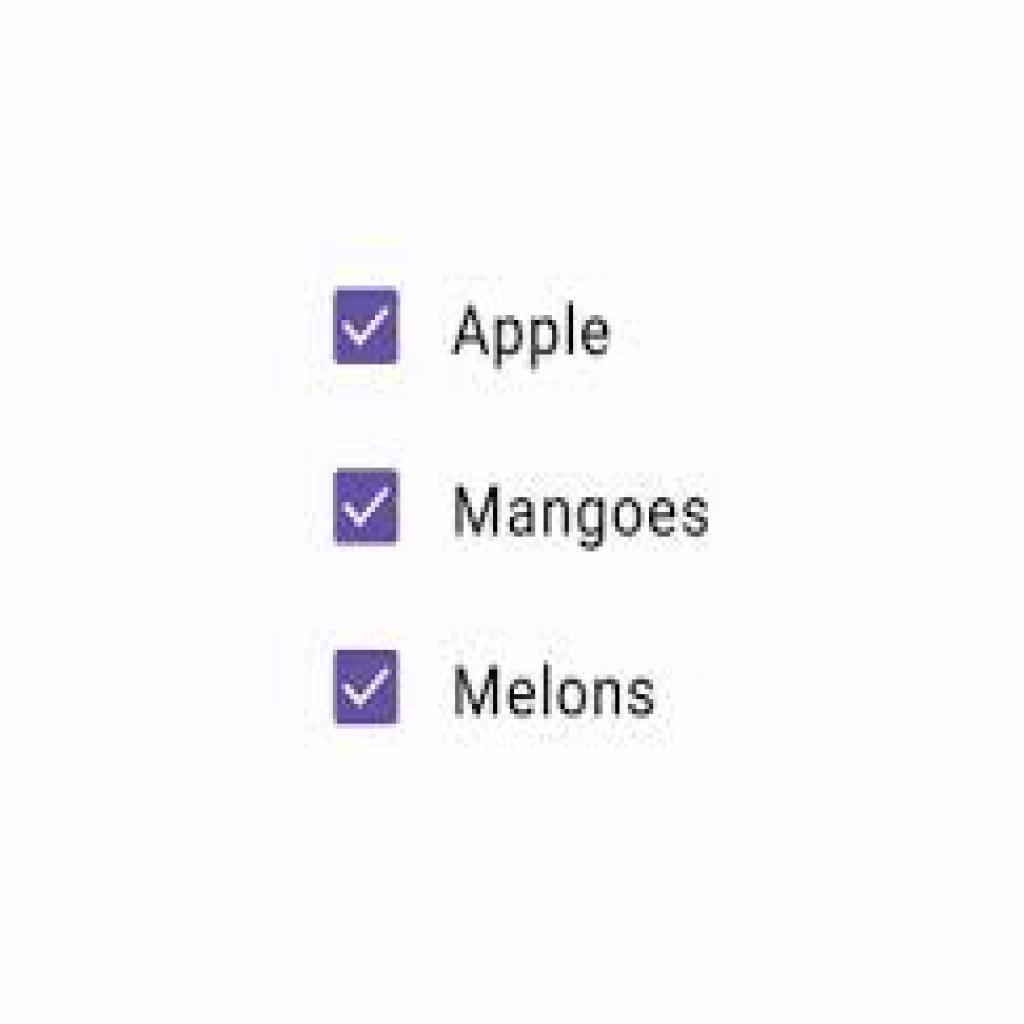checkbox: (331, 289, 403, 368), (332, 648, 403, 728), (332, 467, 402, 547)
